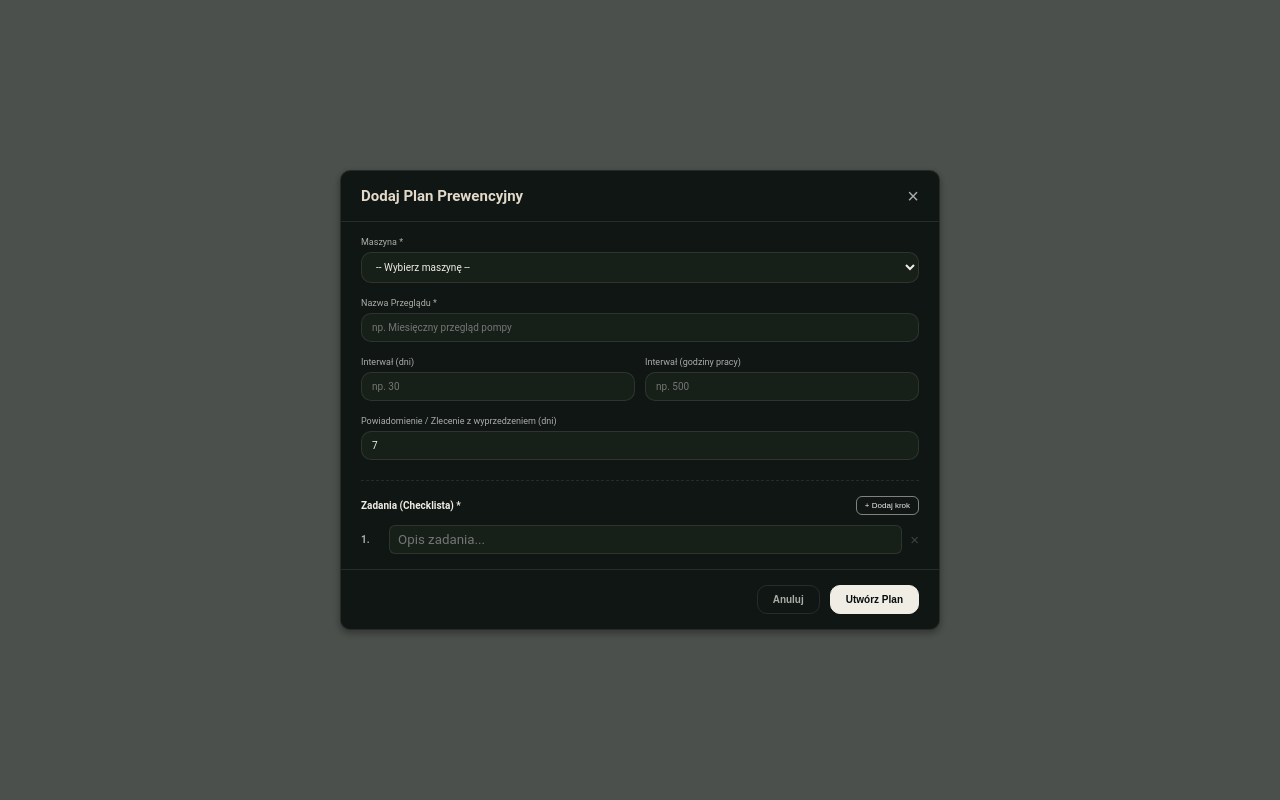
Test: PreventiveModal › zarządzanie checklistą › kliknięcie × usuwa krok gdy jest ich więcej niż jeden
What coordinates should you click on to do the following:
click the button "+ Dodaj krok"
I would click on:
 (887, 506)
Its box is x1=856 y1=496 x2=919 y2=515.
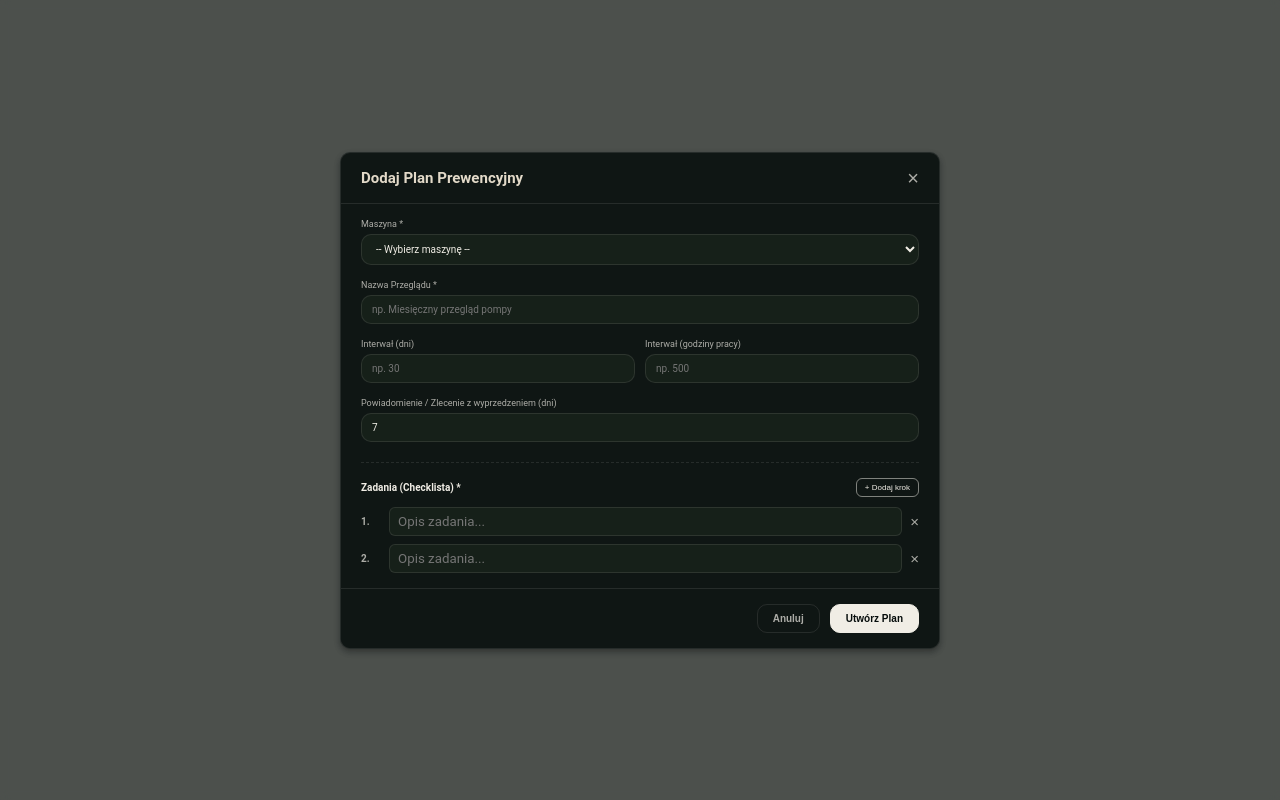
Expected: the number of fields with placeholder "Opis zadania..." is 2, x1=389 y1=506 x2=902 y2=536; x1=389 y1=544 x2=902 y2=572
What coordinates should you click on to do the following:
click the 2nd button "×"
I would click on:
 (915, 521)
Its box is x1=910 y1=514 x2=919 y2=528.
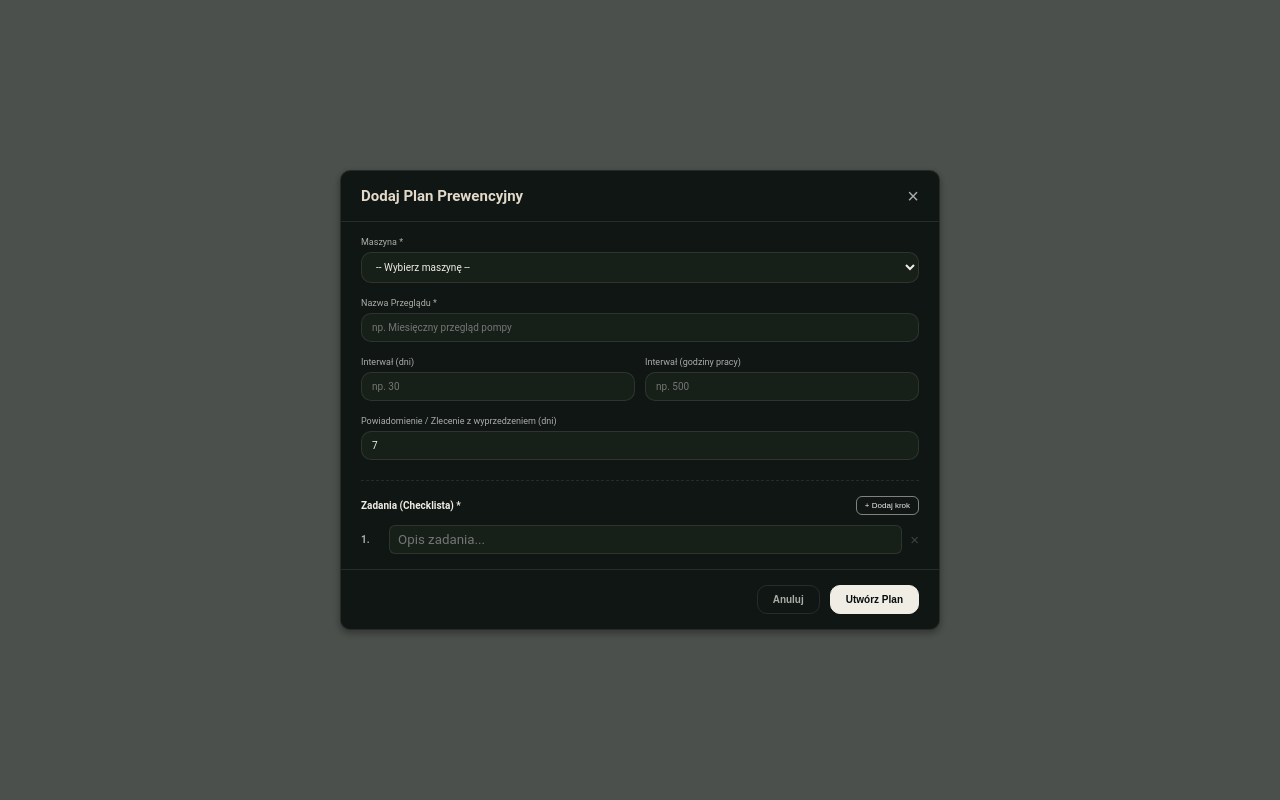
Expected: the number of fields with placeholder "Opis zadania..." is 1, x1=389 y1=525 x2=902 y2=554
